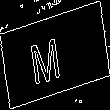M_N: (38, 26, 72, 84)
